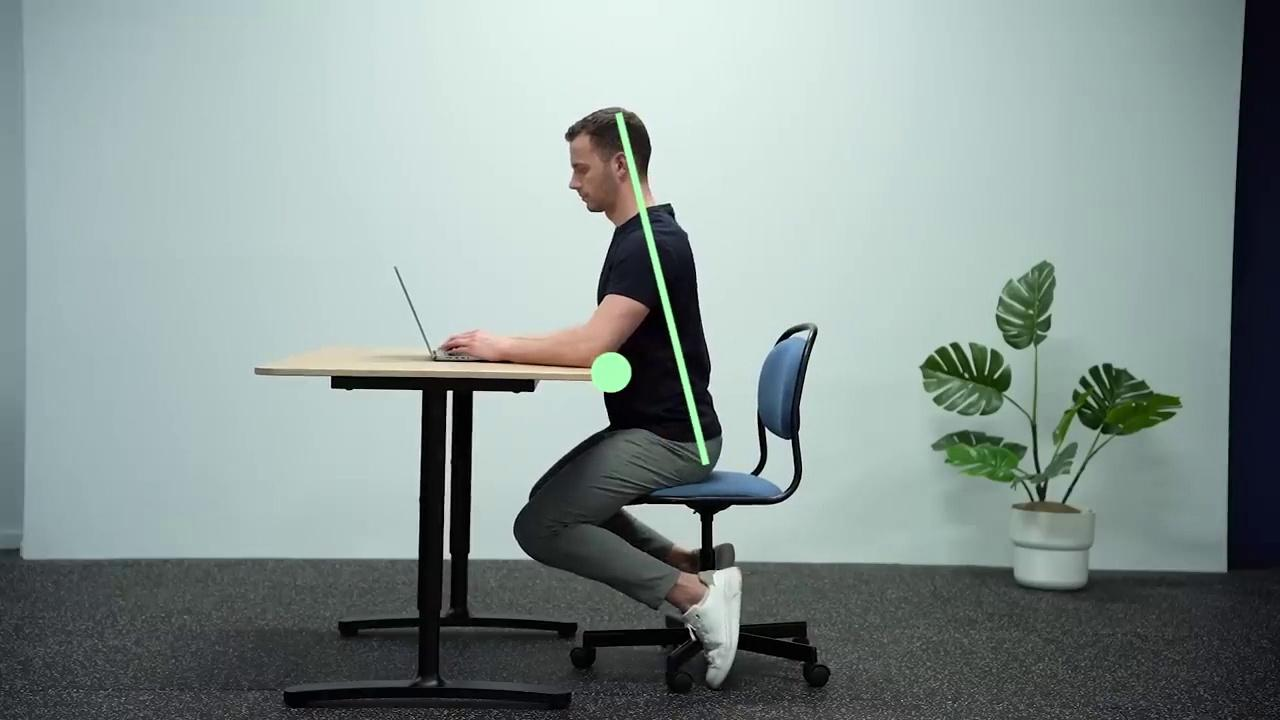GoodPosture: (444, 108, 741, 688)
